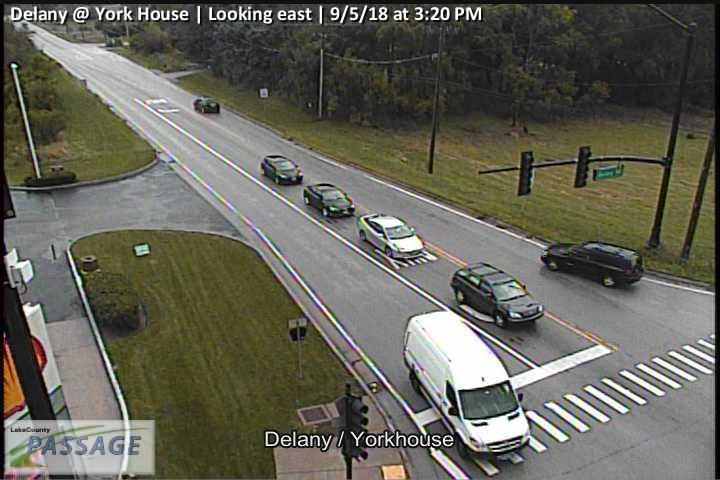SUV: (403, 310, 531, 457), (451, 262, 544, 327), (541, 240, 643, 288), (262, 155, 303, 185)
Sedan: (359, 213, 425, 258), (304, 184, 355, 217), (194, 97, 220, 114)
